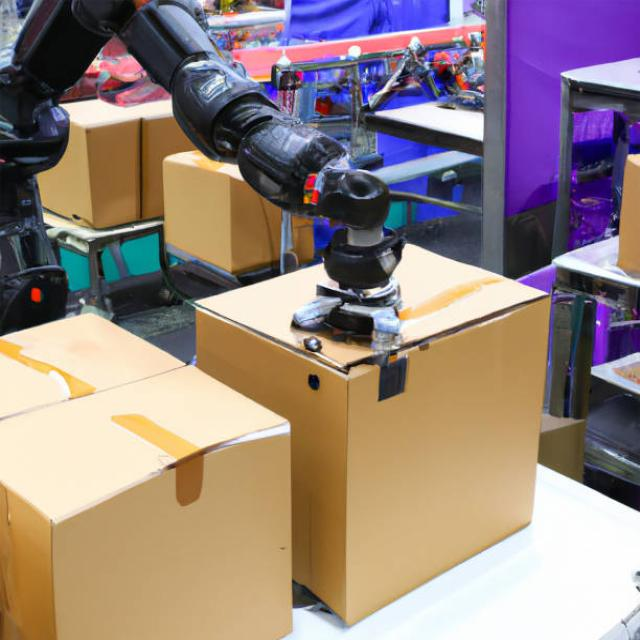Robotic-arm: (0, 0, 414, 353)
